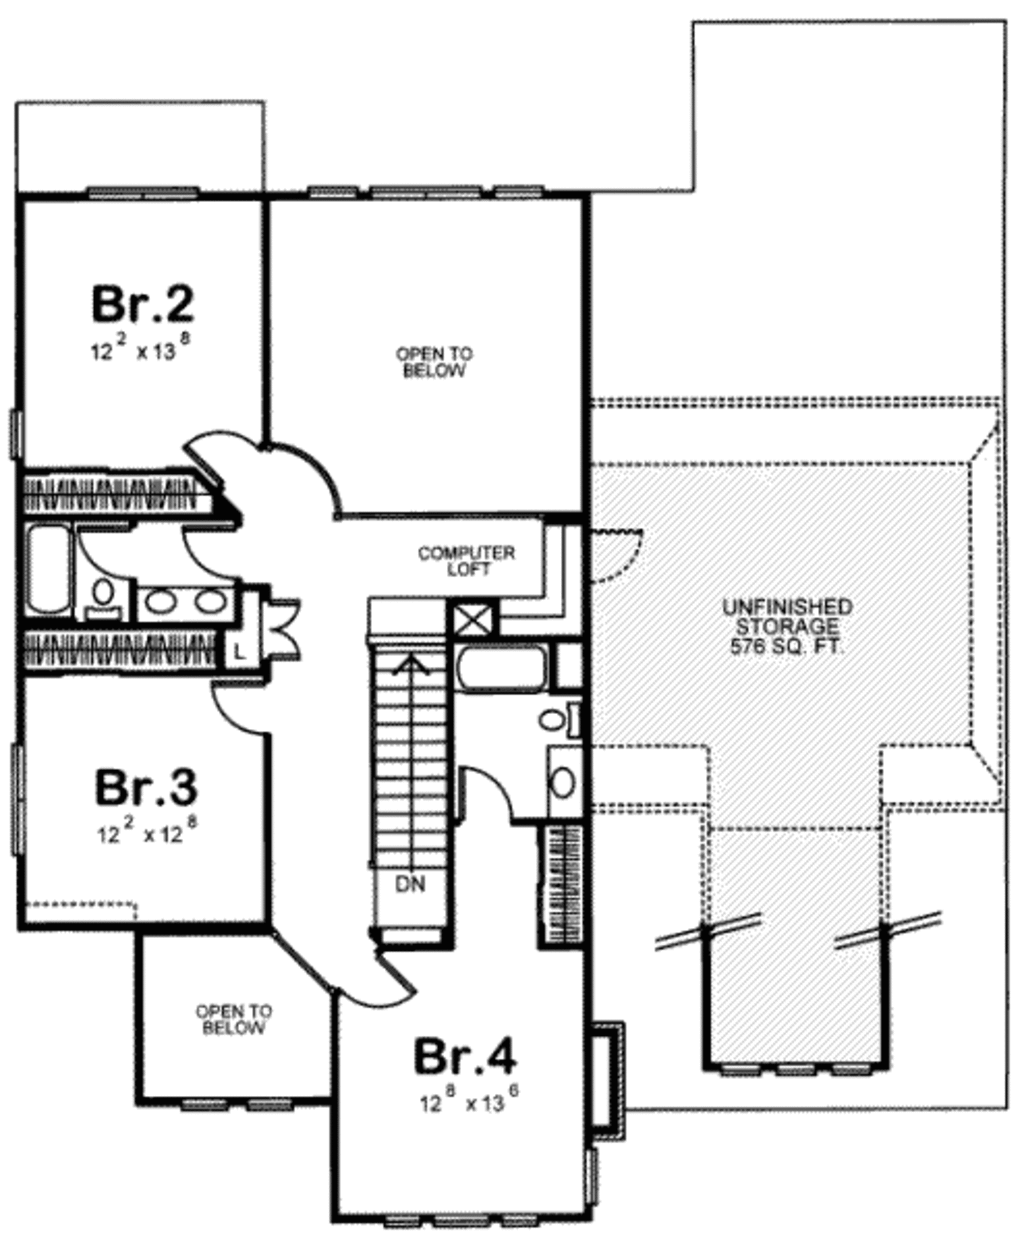door: (446, 763, 536, 834), (173, 425, 258, 488), (584, 517, 654, 592), (338, 965, 427, 1023), (198, 681, 279, 742), (254, 594, 304, 675), (184, 525, 244, 579), (73, 525, 136, 576)
large_sink: (75, 583, 131, 652), (527, 696, 594, 736)
small_sink: (131, 583, 236, 629), (544, 742, 586, 813)
stairs: (367, 598, 454, 881)
tub: (442, 640, 544, 702), (27, 521, 65, 613)
window: (296, 173, 542, 204), (4, 744, 34, 861), (1, 396, 44, 467), (383, 1213, 540, 1229), (81, 186, 201, 196)
